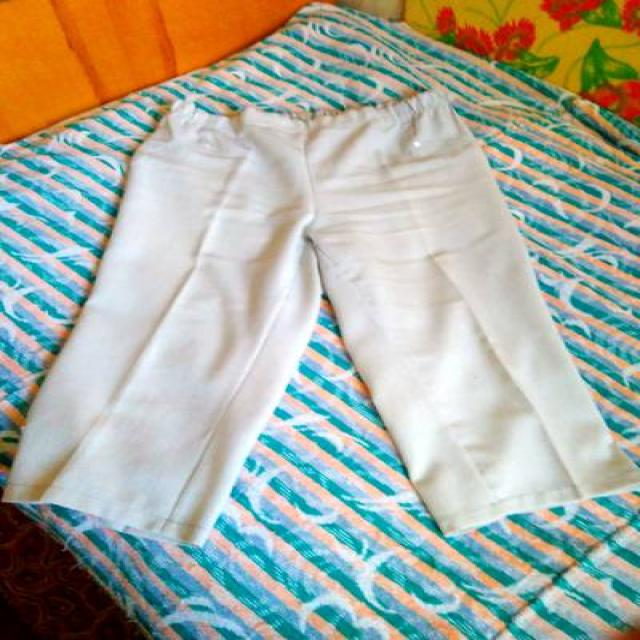Clothes -Biodegradable-: (4, 87, 640, 542)
